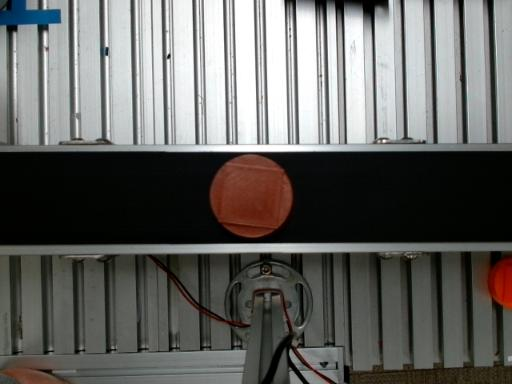Brown_Waper: (210, 155, 292, 238)
Square: (220, 162, 284, 229)
